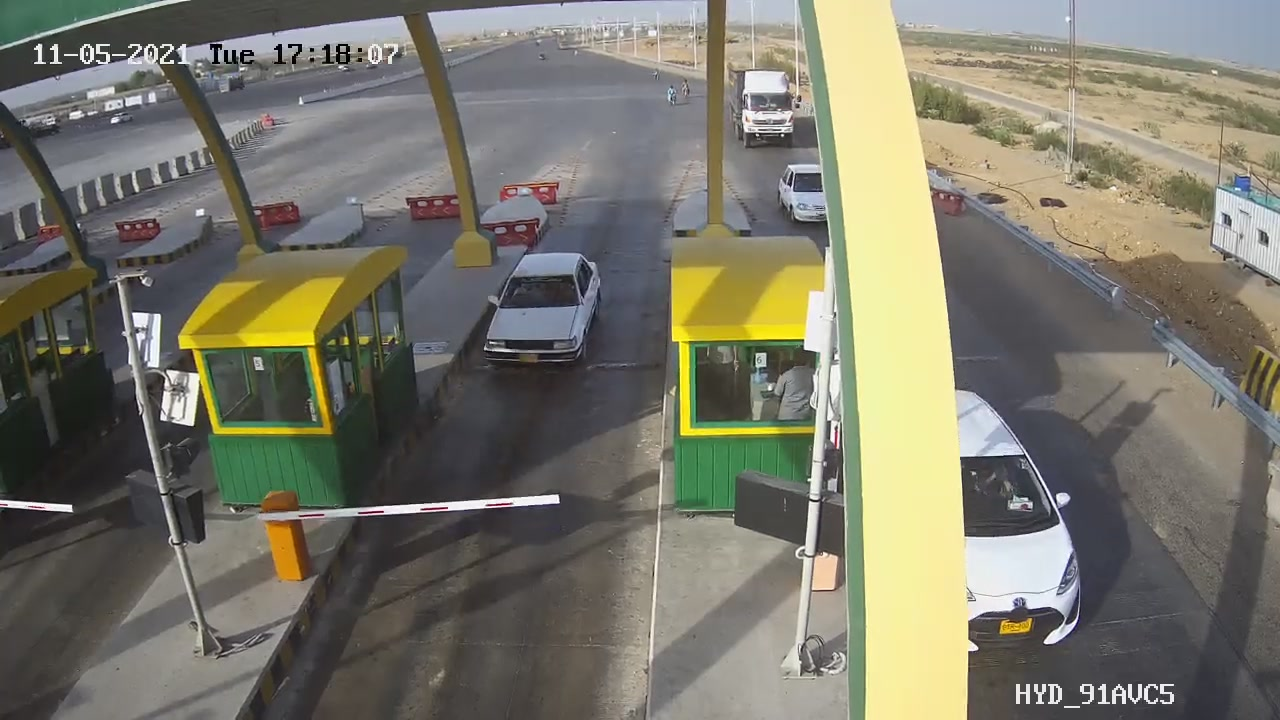F1: (470, 240, 622, 394)
